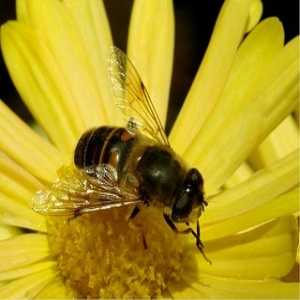bee: (29, 49, 219, 265)
